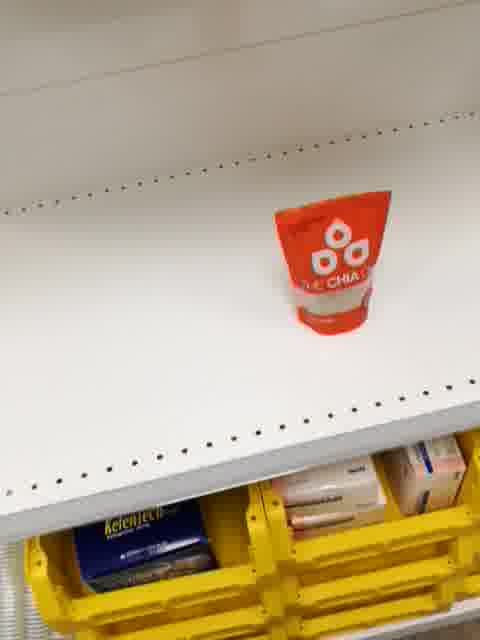whitechia: (274, 190, 392, 336)
